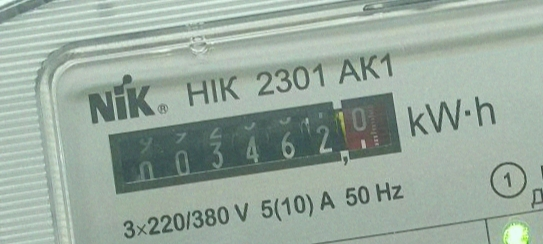0: (170, 146, 192, 177), (348, 105, 369, 135), (133, 157, 155, 183)
2: (312, 122, 334, 156)
3: (204, 139, 227, 173)
4: (241, 133, 262, 167)
6: (274, 127, 299, 164)
9: (133, 135, 156, 157)
screen: (93, 79, 415, 215)
